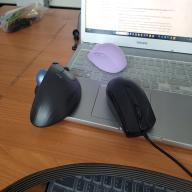mouse: (97, 72, 170, 150), (30, 50, 84, 134), (86, 27, 132, 77)
